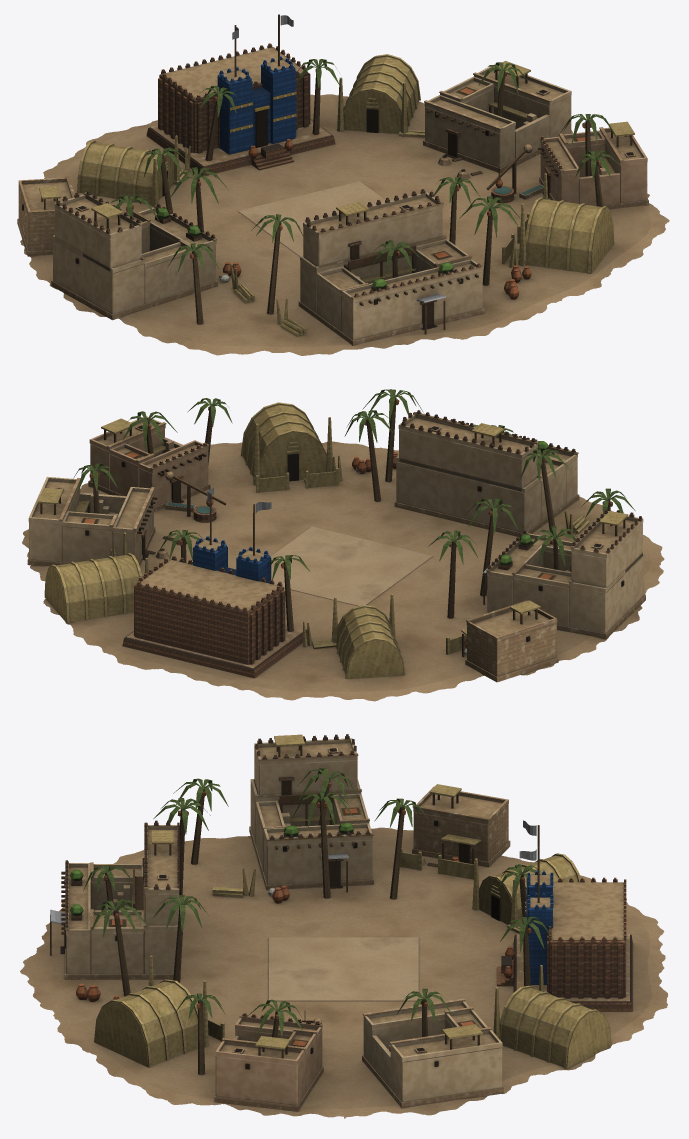
The model's file is classical-town-small-b-mesopotamia.glb.
3 renders of one model, top to bottom at view 1: azimuth 30°, elevation 25°; view 2: azimuth 150°, elevation 25°; view 3: azimuth 270°, elevation 25°, orthographic. The views are drawn at different scales.
Parts seen in each view (by area): view 1: LOD0; view 2: LOD0; view 3: LOD0.
Boxes of the visible parts, x1,y1,x2,y2 form: LOD0: [17, 14, 669, 355]; LOD0: [22, 389, 664, 701]; LOD0: [20, 734, 667, 1118].
Size of what is drawn, in the model's own units: 3.98 by 0.9 by 3.71.
Materials: 3 (3 with a texture image).
